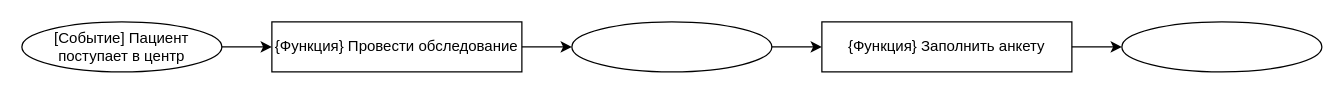
This 1344x94 diagram has some shape labels left out. Here are the shapes that lost their labels. From the top down, the centre of each, then its label:
the point at 671,46: [Событие] Диагноз установлен
the point at 1221,46: [Событие] Данные готовы
